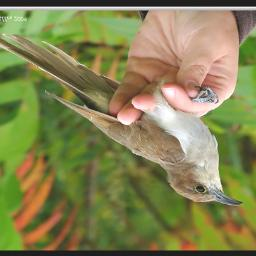Cuckoo: (0, 31, 244, 207)
